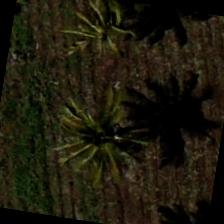Kelapa_Sawit: (50, 91, 152, 194), (42, 0, 144, 79)
